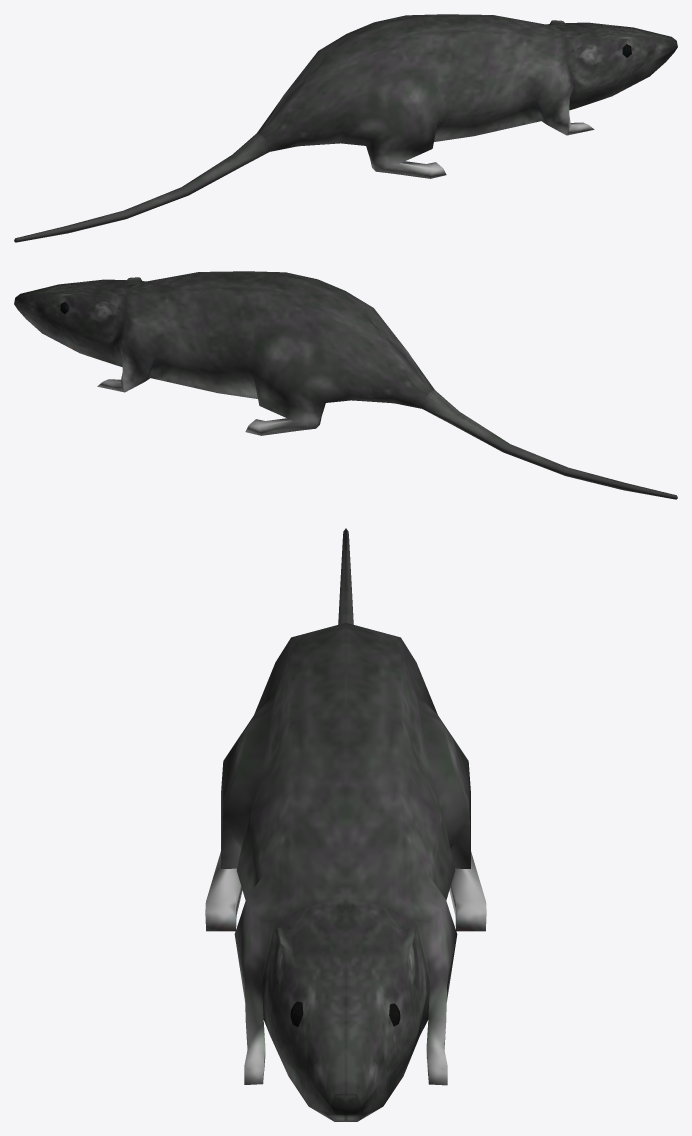
Rendered from ratahalo.obj.
3 views of the same model, one above another, from view 1: azimuth 30°, elevation 25°; view 2: azimuth 150°, elevation 25°; view 3: azimuth 270°, elevation 25° (orthographic). The views are drawn at different scales.
Visible parts, largest first — view 1: rat:base; view 2: rat:base; view 3: rat:base.
Part boxes in pixels (x1=…): rat:base: x1=14, y1=14, x2=677, y2=242; rat:base: x1=14, y1=271, x2=677, y2=499; rat:base: x1=205, y1=528, x2=486, y2=1121.
Size of the model in its own units: 2.57 by 0.4864 by 0.4733.
